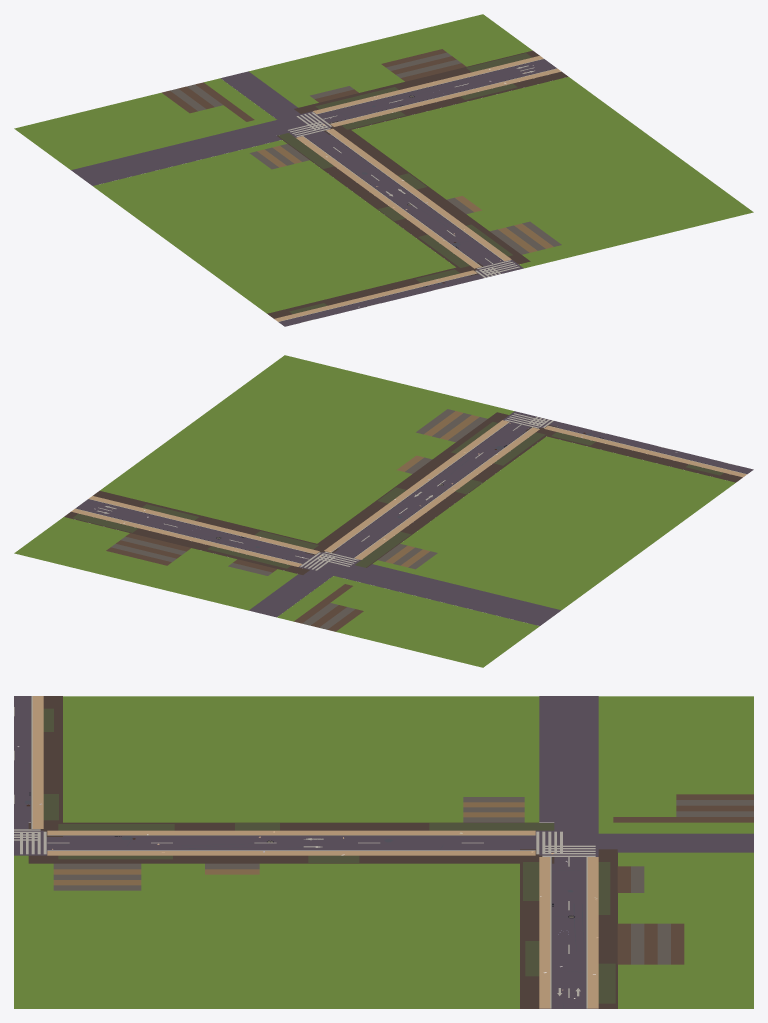
File: cure-12-2.glb
3 renders of one model, top to bottom at view 1: azimuth 30°, elevation 25°; view 2: azimuth 150°, elevation 25°; view 3: azimuth 270°, elevation 25°, orthographic. The views are drawn at different scales.
Visible parts, largest first — view 1: cure-12-2; view 2: cure-12-2; view 3: cure-12-2.
Part boxes in pixels (x1,y1,x2,y2): cure-12-2: [14, 14, 753, 326]; cure-12-2: [14, 355, 753, 667]; cure-12-2: [14, 696, 753, 1008].
Bounding box in the file's own units: 100 × 0.017 × 100.
